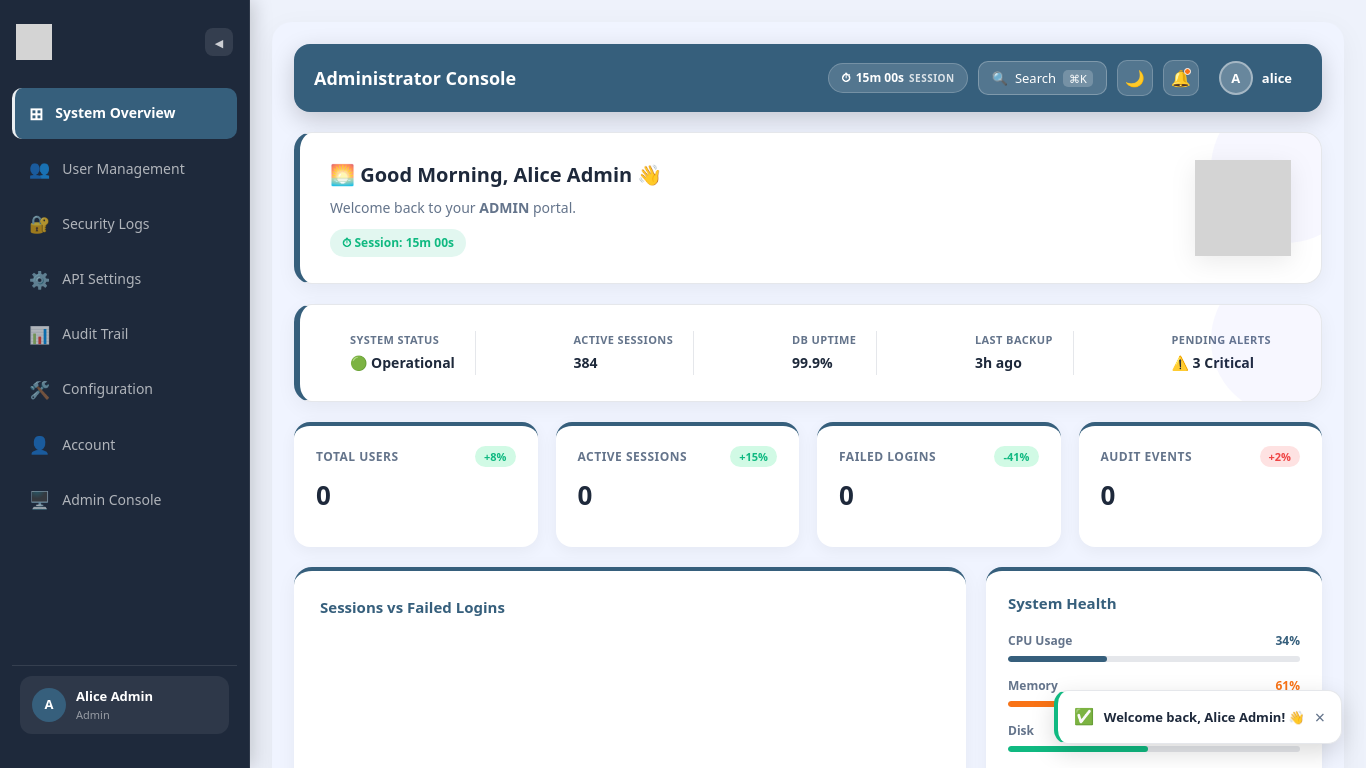
Navigation › clicking a sidebar item updates the topbar title
Click the text "Security Logs": (106, 224) [62,213,150,235]
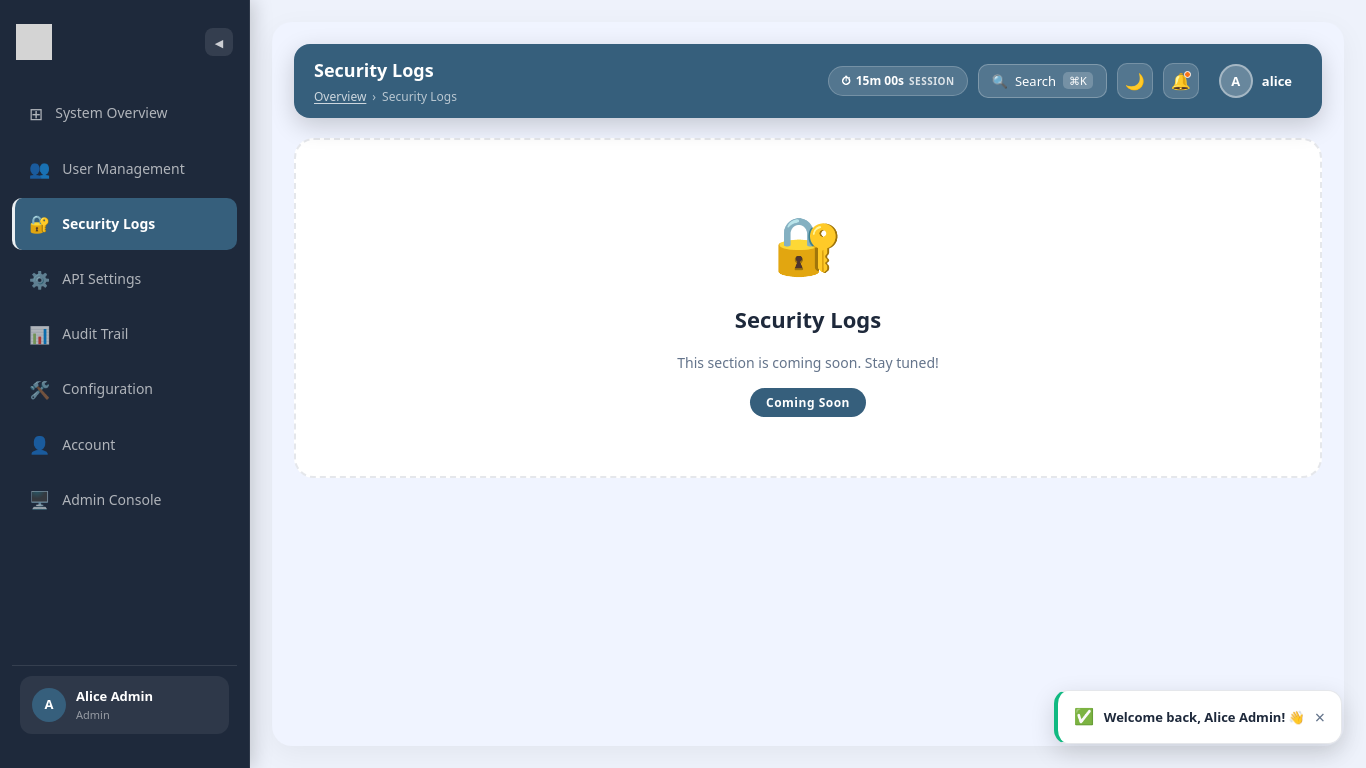
Result: the heading "Security Logs" is shown at [314,58,434,82]
